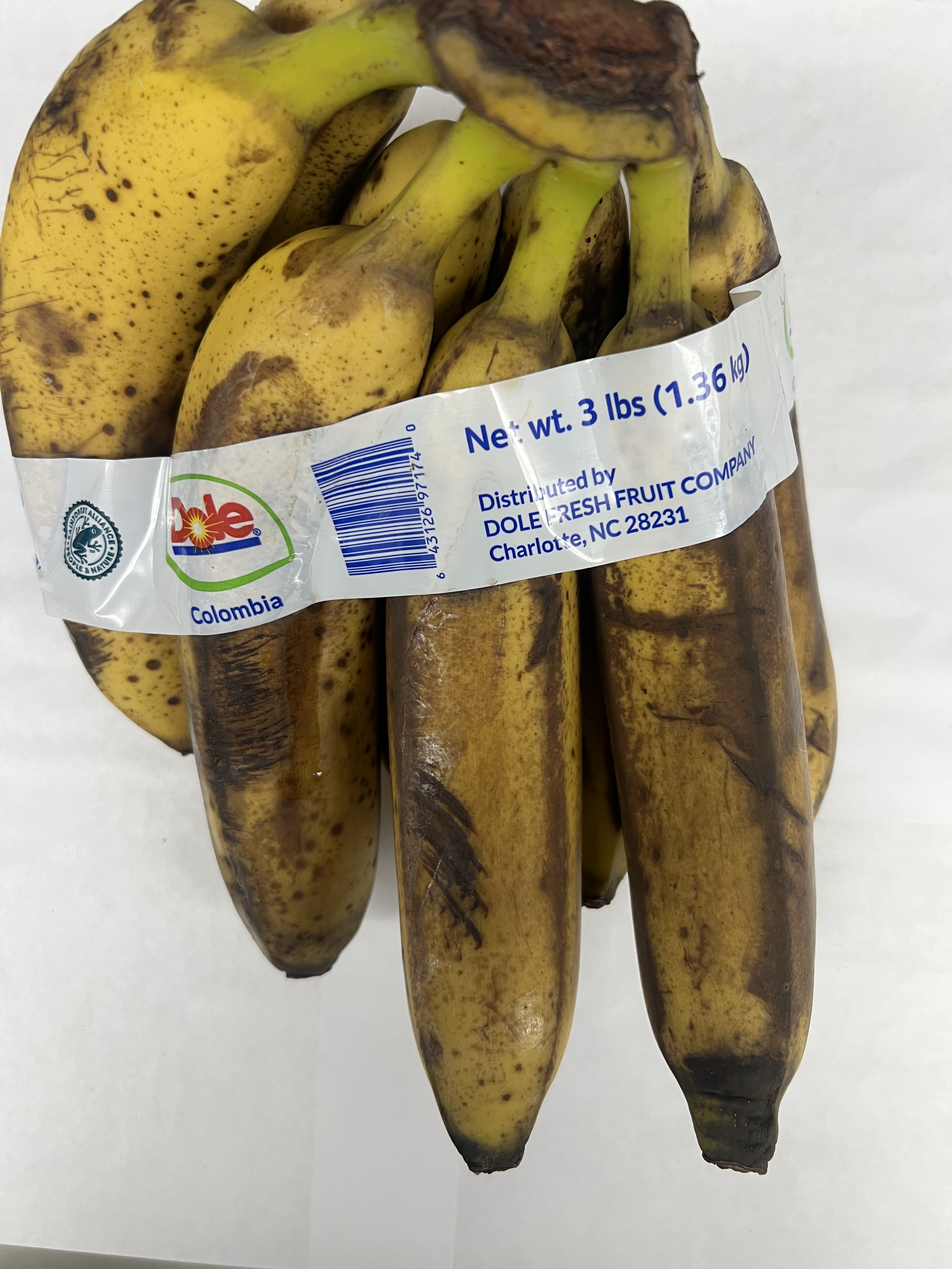discoloration: (0, 0, 846, 1181)
